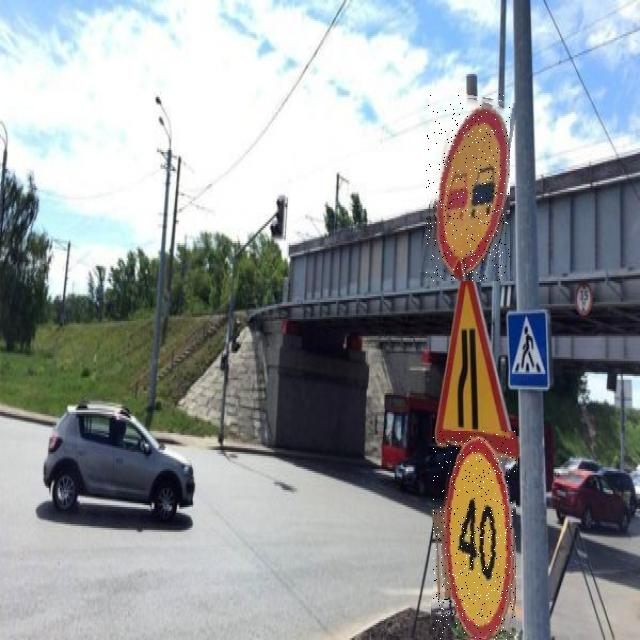no overtaking: (426, 94, 510, 281)
speed limit 40: (433, 431, 516, 640)
